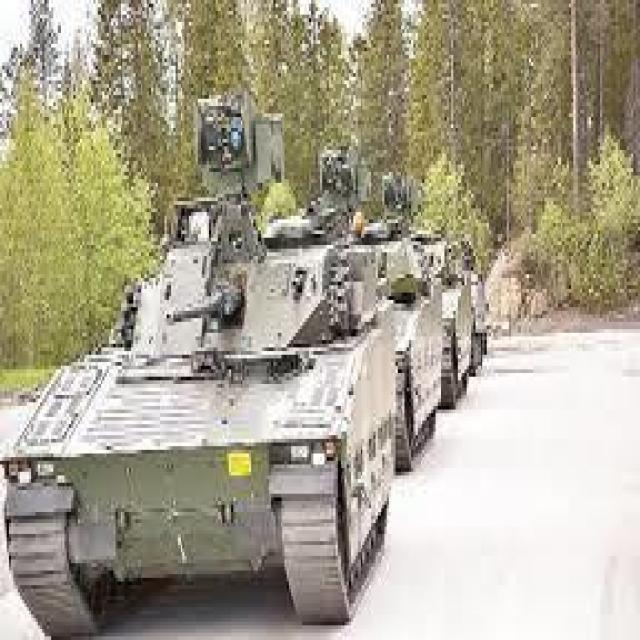Tanks: (8, 82, 370, 624), (382, 218, 444, 496), (449, 232, 469, 397)
